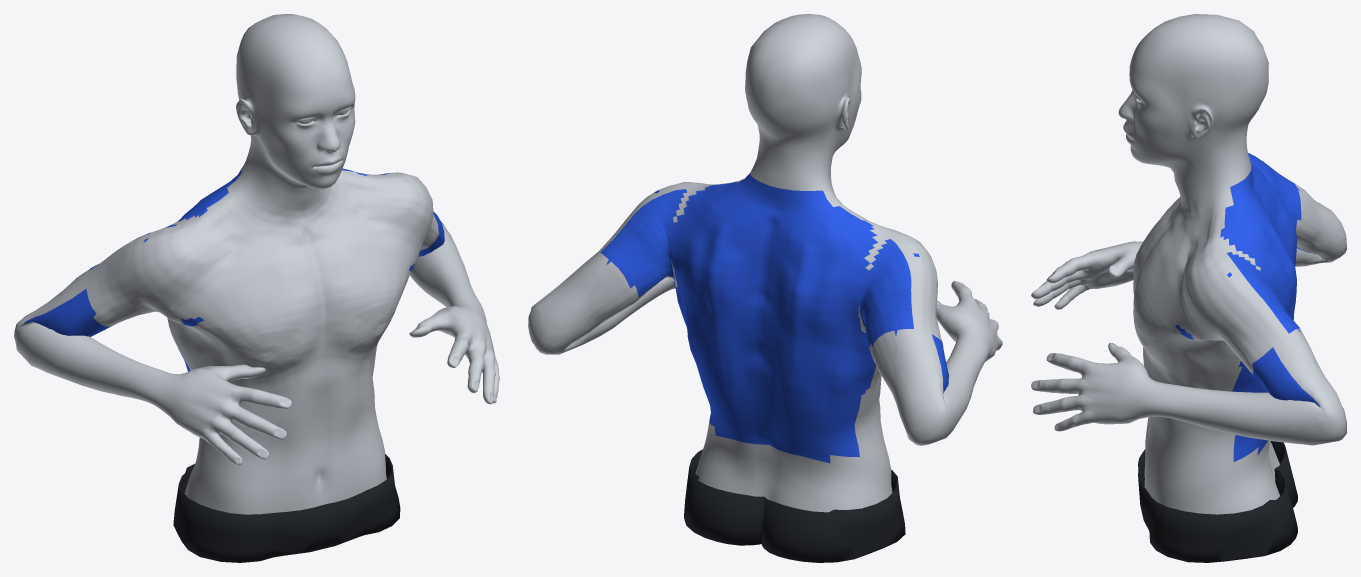
Rendered from workout-pull.glb.
3 views of the same model, side by side, from view 1: azimuth 30°, elevation 25°; view 2: azimuth 150°, elevation 25°; view 3: azimuth 270°, elevation 25° (orthographic). The views are drawn at different scales.
Visible parts, largest first — view 1: SM_Athlete_Body; view 2: SM_Athlete_Body; view 3: SM_Athlete_Body.
Boxes of the visible parts, <box> form: SM_Athlete_Body: <box>14,14,499,562</box>; SM_Athlete_Body: <box>528,14,1002,562</box>; SM_Athlete_Body: <box>1031,14,1346,562</box>.
Bounding box in the file's own units: 1.78 × 2 × 1.16.
